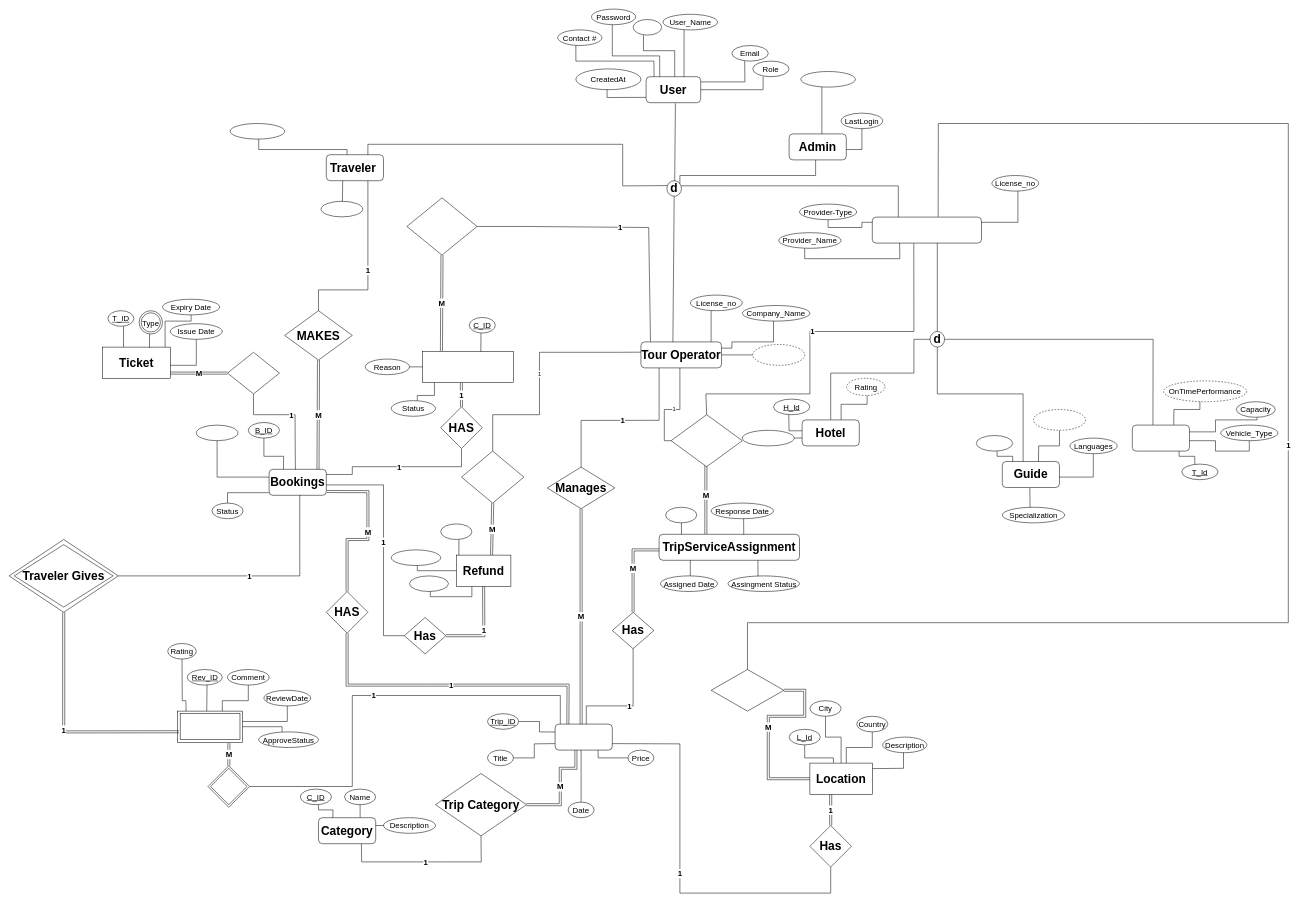
Image size: 1299x903. Some labels were removed from this diagram. The shapes that lost their labels are listed below. From the top down, each one's centre as x and y in pixels, then its label:
the point at 647,27: S_ID
the point at 827,79: Admin_Name
the point at 257,131: Preferences
the point at 342,209: CNIC
the point at 441,226: Cancelled
the point at 927,230: Service Provider
the point at 253,373: Issues
the point at 468,366: Cancellation
the point at 778,354: Revenue
the point at 217,433: BookDate
the point at 768,438: HotelName
the point at 1059,419: AvgRating
the point at 1161,438: Transport
the point at 706,440: Assigned
the point at 994,443: G_Id
the point at 492,477: Process
the point at 456,531: R_ID
the point at 681,515: A_ID
the point at 416,557: Refund Date
the point at 428,583: Amount
the point at 747,690: Locate At
the point at 210,726: Review
the point at 583,737: Trip
the point at 228,786: Get
